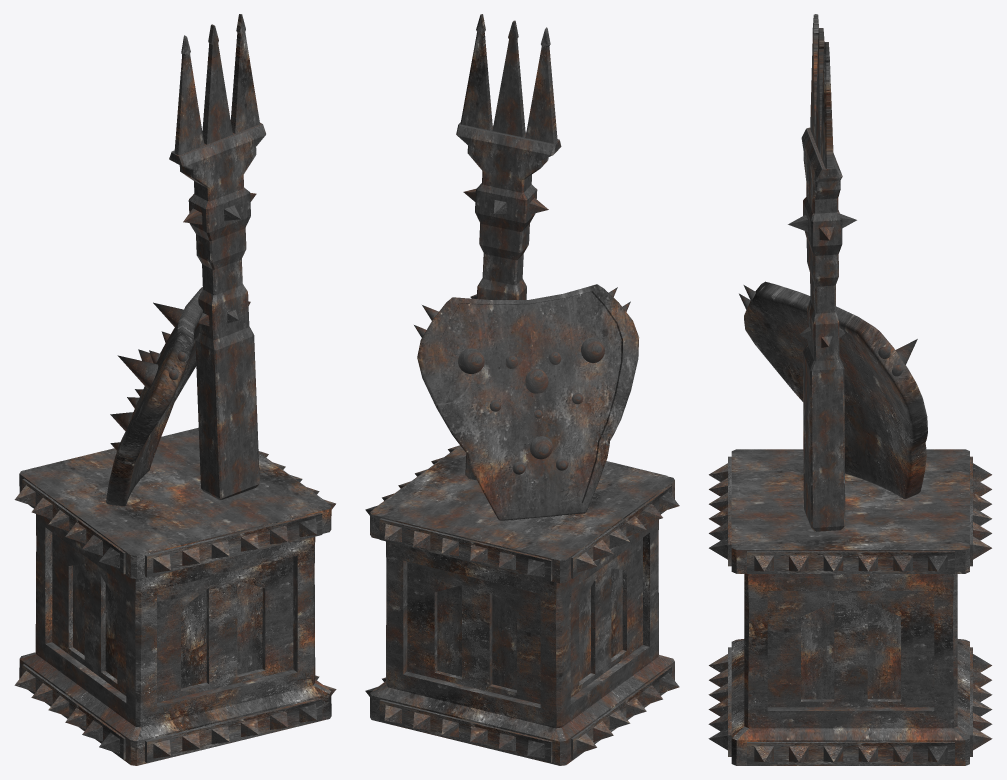
Rendered from SheildStatue.fbx.
3 renders of one model, left to right at view 1: azimuth 30°, elevation 25°; view 2: azimuth 150°, elevation 25°; view 3: azimuth 270°, elevation 25°, orthographic. The views are drawn at different scales.
Parts seen in each view (by area): view 1: Base, pCube3, pCube1, Spikes4, Spikes5, Spikes1, Spikes, pCone59; view 2: Base, pCube1, pCube3, Spikes6, Spikes7, Spikes1, Spikes, pCone60; view 3: Base, pCube3, pCube1, Spikes2, Spikes3, Spikes5, Spikes4, Spikes6, Spikes7.
Boxes of the visible parts, x1,y1,x2,y2 form: Base: (19, 428, 331, 765); pCube3: (169, 14, 265, 499); pCube1: (106, 287, 202, 506); Spikes4: (145, 698, 322, 762); Spikes5: (145, 512, 322, 577); Spikes1: (14, 478, 125, 574); Spikes: (14, 664, 125, 759); pCone59: (117, 355, 158, 388); Base: (370, 446, 674, 765); pCube1: (417, 284, 639, 520); pCube3: (456, 14, 561, 480); Spikes6: (379, 518, 552, 581); Spikes7: (379, 699, 552, 762); Spikes1: (571, 485, 679, 578); Spikes: (571, 666, 679, 759); pCone60: (458, 348, 484, 373); Base: (731, 449, 969, 765); pCube3: (788, 14, 856, 531); pCube1: (744, 281, 927, 498); Spikes2: (747, 551, 954, 573); Spikes3: (747, 742, 954, 764); Spikes5: (709, 456, 731, 566); Spikes4: (708, 647, 731, 756); Spikes6: (970, 456, 991, 566); Spikes7: (970, 647, 992, 756).
Size of the model in its own units: 1.18 by 3.24 by 1.19.
